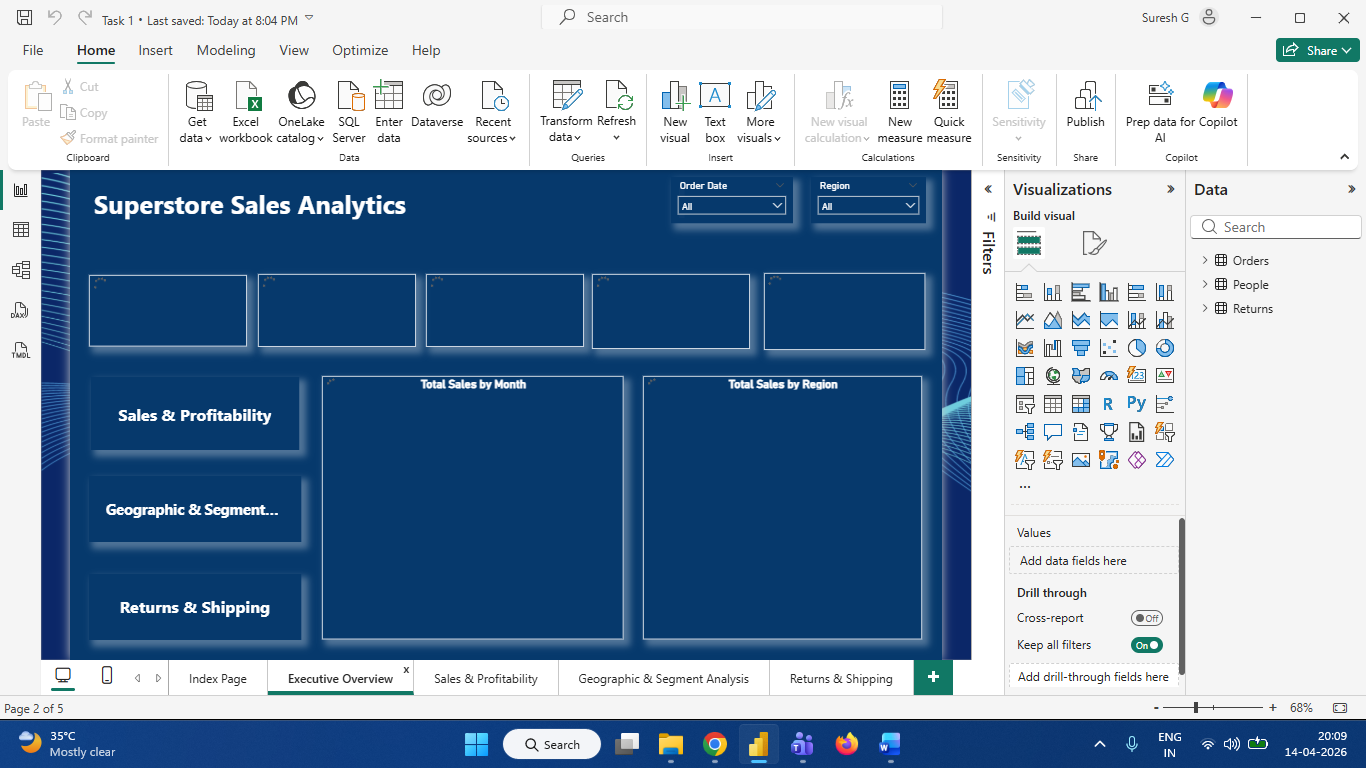

This screenshot's page, from the dashboard's own definition file:
{"tool":"powerbi","page":{"name":"Executive Overview","canvas":[1280,720],"ordinal":1},"visuals":[{"type":"textbox","box":[0,20.6,908.1,57.3],"z":0},{"type":"slicer","fields":{"Values":["Orders.Order Date"]},"box":[883.1,10.3,179.3,67.6],"z":1000},{"type":"slicer","fields":{"Values":["Orders.Region"]},"box":[1088.8,10.3,169,67.6],"z":2000},{"type":"cardVisual","fields":{"Data":["Orders.Total Sales"]},"box":[28.3,155,231.7,105],"z":3000},{"type":"cardVisual","fields":{"Data":["Orders.YOY Growth %"]},"box":[523.3,153.3,231.7,106.7],"z":4000},{"type":"cardVisual","fields":{"Data":["Orders.Return Rate %"]},"box":[276.7,153.3,231.7,106.7],"z":5000},{"type":"cardVisual","fields":{"Data":["Orders.Profit Margin"]},"box":[766.7,153.3,231.7,110],"z":6000},{"type":"lineChart","fields":{"Y":["Orders.Total Sales"],"Category":["Orders.Order Date.Variation.Date Hierarchy.Year","Orders.Order Date.Variation.Date Hierarchy.Quarter","Orders.Order Date.Variation.Date Hierarchy.Month","Orders.Order Date.Variation.Date Hierarchy.Day"]},"box":[370,303.3,443.3,386.7],"z":7000},{"type":"actionButton","box":[30.9,304.2,305.6,107.3],"z":8000},{"type":"actionButton","box":[27.9,449.6,311.5,97],"z":9000},{"type":"actionButton","box":[27.9,593.6,311.5,97],"z":10000},{"type":"cardVisual","fields":{"Data":["Orders.Total Orders"]},"box":[1020,151.7,236.7,113.3],"z":11000},{"type":"clusteredColumnChart","fields":{"Y":["Orders.Total Sales"],"Category":["Orders.Region"]},"box":[841.7,303.3,410,386.7],"z":12000}]}

Visuals, with their boxes on the page's 1280x720 design canvas (x1, y1, x2, y2). These are canvas units, not pixel positions in the 1366x768 screenshot, which may show the page scaled, cropped or inside an application window:
textbox: select_region(0, 21, 908, 78)
slicer - Orders.Order Date: select_region(883, 10, 1062, 78)
slicer - Orders.Region: select_region(1089, 10, 1258, 78)
cardVisual - Orders.Total Sales: select_region(28, 155, 260, 260)
cardVisual - Orders.YOY Growth %: select_region(523, 153, 755, 260)
cardVisual - Orders.Return Rate %: select_region(277, 153, 508, 260)
cardVisual - Orders.Profit Margin: select_region(767, 153, 998, 263)
lineChart - Orders.Total Sales x Orders.Order Date.Variation.Date Hierarchy.Year: select_region(370, 303, 813, 690)
actionButton: select_region(31, 304, 336, 412)
actionButton: select_region(28, 450, 339, 547)
actionButton: select_region(28, 594, 339, 691)
cardVisual - Orders.Total Orders: select_region(1020, 152, 1257, 265)
clusteredColumnChart - Orders.Total Sales x Orders.Region: select_region(842, 303, 1252, 690)
